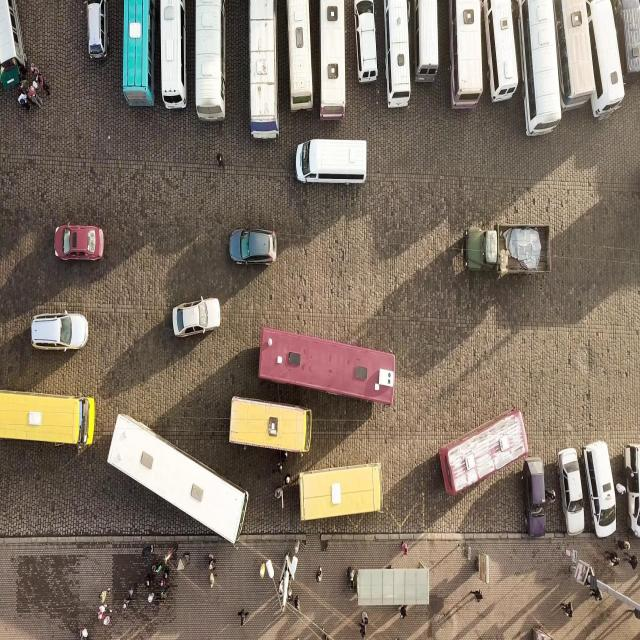Bus: (107, 414, 250, 544), (252, 330, 410, 400), (440, 408, 528, 495), (518, 2, 562, 136), (243, 0, 281, 155), (0, 390, 96, 445), (298, 462, 382, 524), (231, 396, 310, 453), (197, 0, 231, 131), (449, 3, 482, 110), (159, 0, 190, 113), (296, 139, 368, 186), (320, 0, 346, 121), (124, 0, 150, 117), (286, 1, 312, 115), (356, 567, 428, 607), (385, 0, 411, 107), (353, 0, 377, 84), (415, 1, 437, 84)
